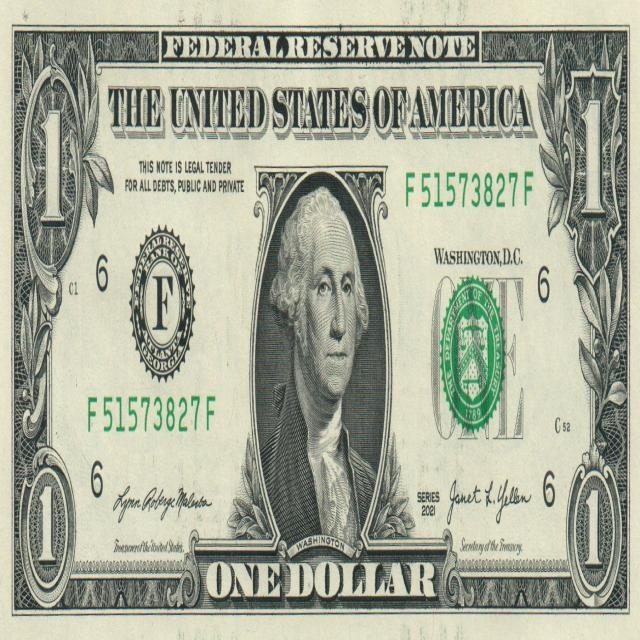SerialNumber: (88, 396, 215, 432), (406, 172, 533, 208)
